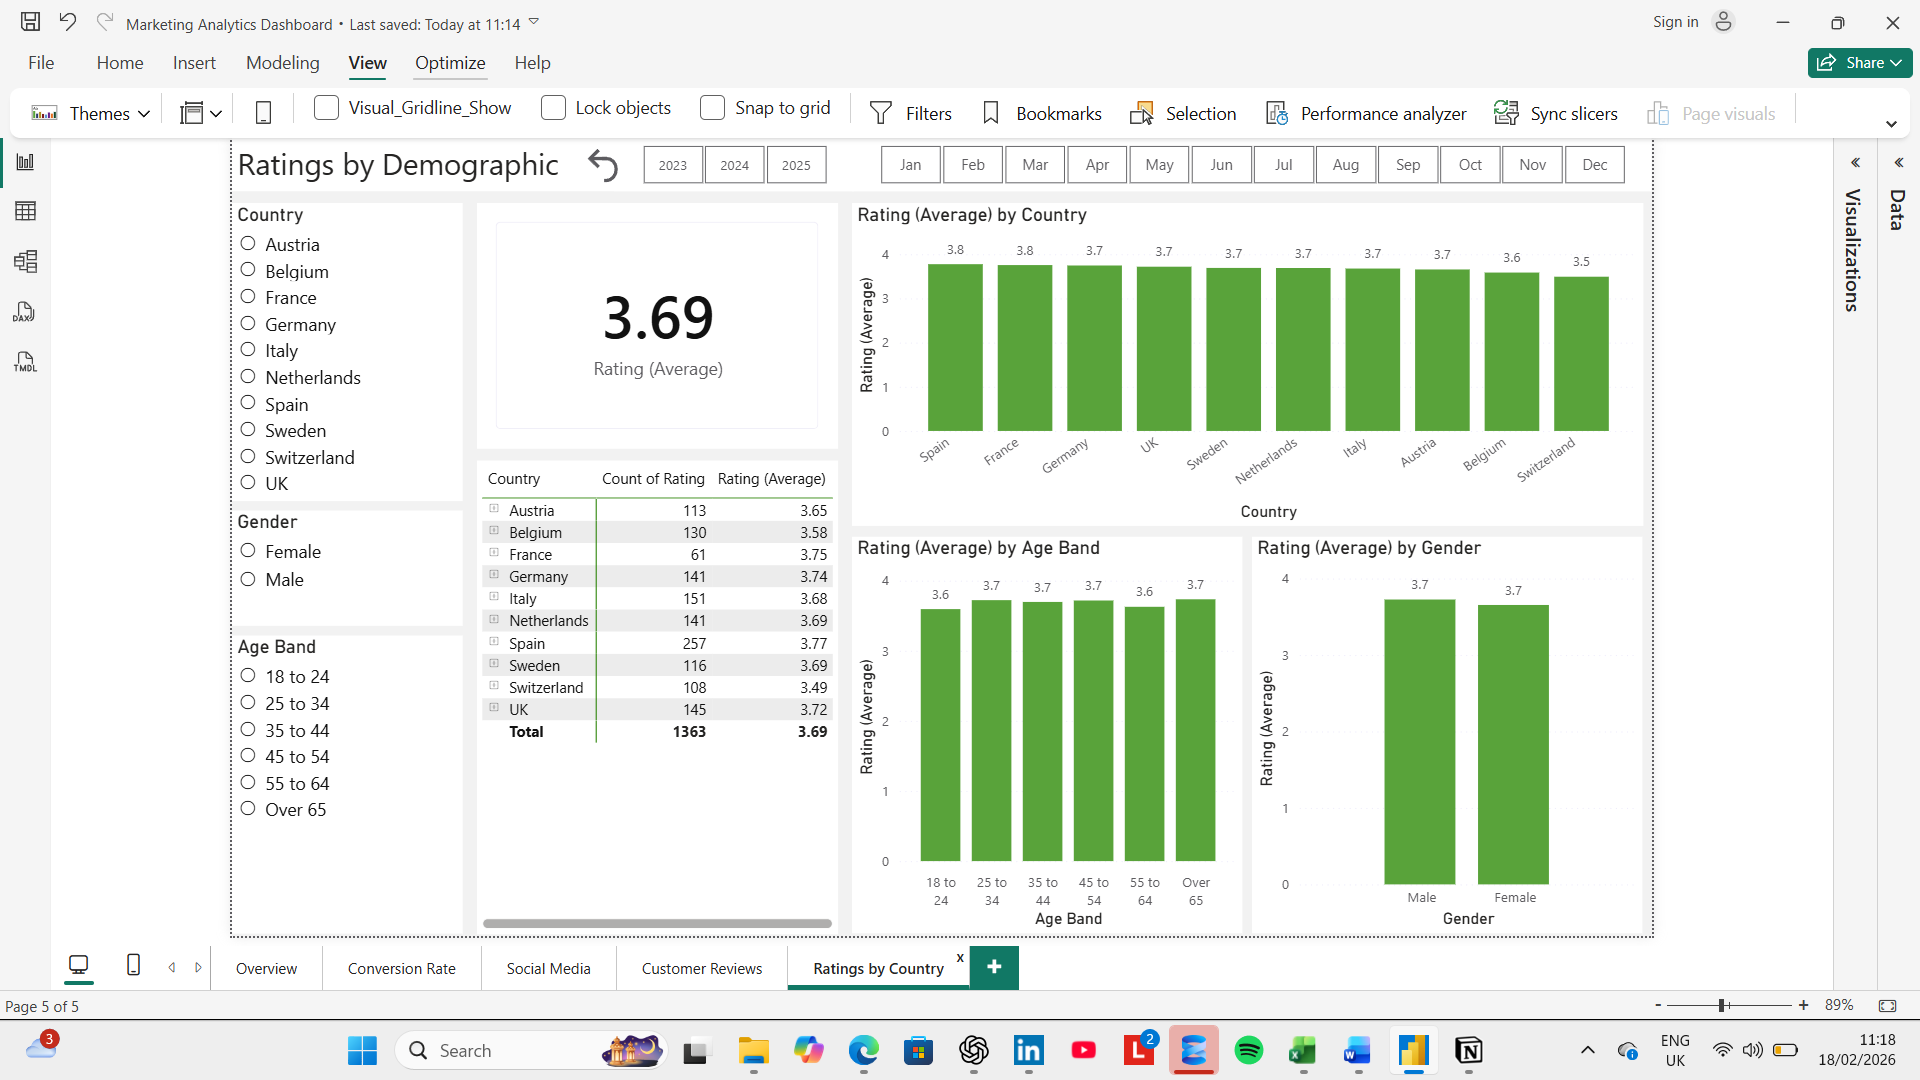

Layout of this report page (visuals, bound fields, positions):
{"tool":"powerbi","page":{"name":"Ratings by Country","canvas":[1280,720],"ordinal":4},"visuals":[{"type":"textbox","box":[0,0,1280,47.7],"z":0},{"type":"listSlicer","fields":{"Values":["dim_customers.Country"]},"box":[0,58.3,207.9,268.7],"z":1000},{"type":"slicer","fields":{"Values":["Calendar.Year"]},"box":[344.6,0,214.9,48.1],"z":2000},{"type":"slicer","fields":{"Values":["Calendar.MonthNameShort"]},"box":[559.5,0,720.9,48.1],"z":3000},{"type":"columnChart","fields":{"Category":["dim_customers.Country"],"Y":["_Calculations.Rating (Average)"]},"box":[559,58.3,713.6,291.5],"z":4000},{"type":"pivotTable","fields":{"Values":["CountNonNull(fact_customer_reviews.Rating)","_Calculations.Rating (Average)"],"Rows":["dim_customers.Country","dim_customers.Gender"]},"box":[220.6,290.3,325.8,427.2],"z":5000},{"type":"columnChart","fields":{"Category":["dim_customers.Age Band"],"Y":["_Calculations.Rating (Average)"]},"box":[559,360,352.4,357.5],"z":6000},{"type":"cardVisual","fields":{"Data":["_Calculations.Rating (Average)"]},"box":[220.6,58.3,325.8,221.8],"z":7000},{"type":"listSlicer","fields":{"Values":["dim_customers.Gender"]},"box":[0,335.9,207.9,103.9],"z":8000},{"type":"listSlicer","fields":{"Values":["dim_customers.Age Band"]},"box":[0,448.7,207.9,268.7],"z":9000},{"type":"clusteredColumnChart","fields":{"Category":["dim_customers.Gender"],"Y":["_Calculations.Rating (Average)"]},"box":[920.3,360,352.4,357.5],"z":10000}]}

Visuals, with their boxes on the page's 1280x720 design canvas (x1, y1, x2, y2). These are canvas units, not pixel positions in the 1920x1080 screenshot, which may show the page scaled, cropped or inside an application window:
textbox: 0:0:1280:48
listSlicer - dim_customers.Country: 0:58:208:327
slicer - Calendar.Year: 345:0:560:48
slicer - Calendar.MonthNameShort: 560:0:1280:48
columnChart - dim_customers.Country x _Calculations.Rating (Average): 559:58:1273:350
pivotTable - CountNonNull(fact_customer_reviews.Rating) x _Calculations.Rating (Average): 221:290:546:718
columnChart - dim_customers.Age Band x _Calculations.Rating (Average): 559:360:911:718
cardVisual - _Calculations.Rating (Average): 221:58:546:280
listSlicer - dim_customers.Gender: 0:336:208:440
listSlicer - dim_customers.Age Band: 0:449:208:717
clusteredColumnChart - dim_customers.Gender x _Calculations.Rating (Average): 920:360:1273:718
